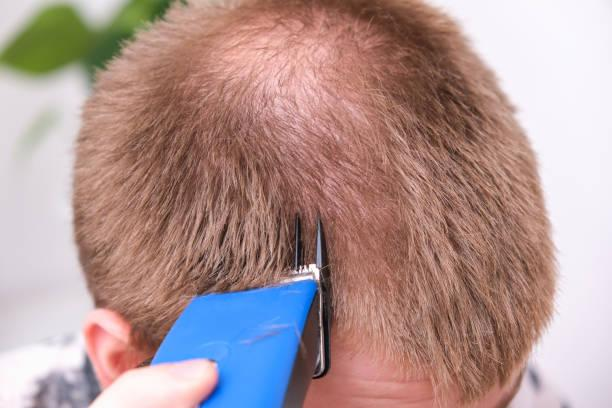dry hair: (404, 165, 449, 325), (463, 293, 502, 385)
low hair density: (194, 26, 385, 141)
